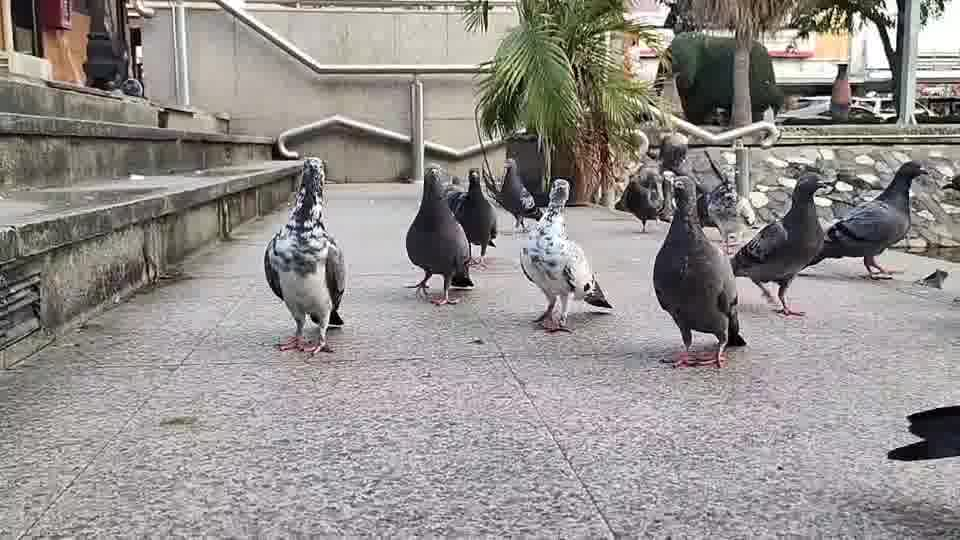Pigeon: (651, 175, 746, 369), (262, 156, 346, 356), (798, 158, 928, 280), (729, 172, 833, 318), (518, 177, 614, 333), (404, 165, 473, 305), (699, 149, 756, 253), (446, 167, 498, 269), (492, 157, 539, 233), (912, 267, 948, 289)
